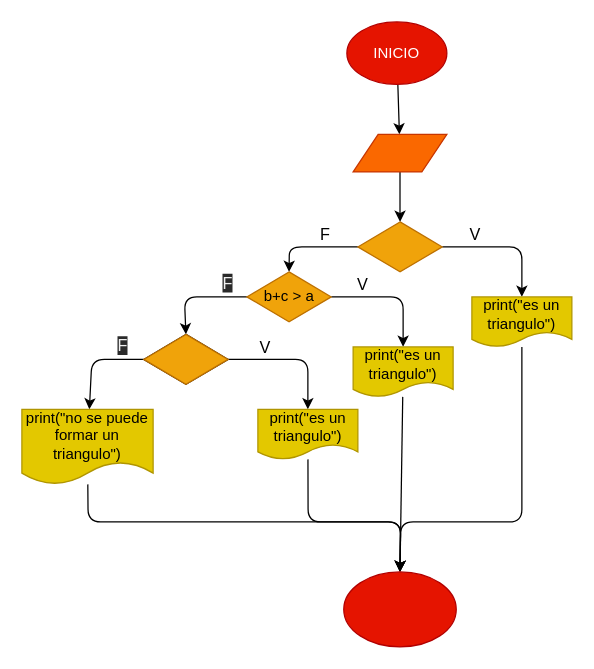
Image size: 594x669. Some labels were removed from this diagram. The centre of each missing label's shape, as x and y in pixels:
"a+b > c" belongs at (399,246).
"a,b,c" belongs at (399,152).
"c+a > b" belongs at (185,358).
"FIN" belongs at (399,609).
